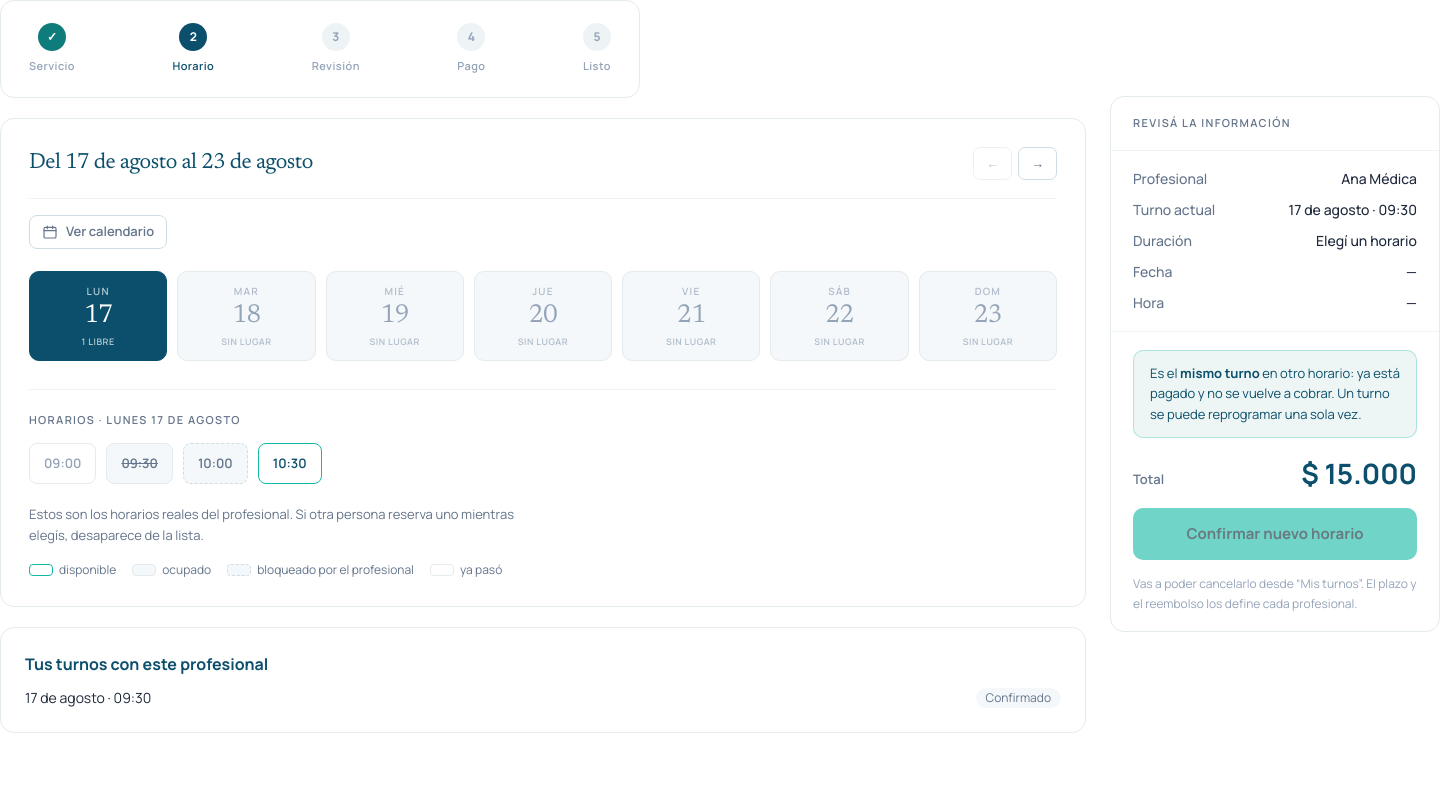
Test: BookAppointment › reprogramar (ENG-66) › muestra el turno actual y que no se vuelve a cobrar
Click the button labelled "10:30" at (290, 463), box [258,442,322,484]
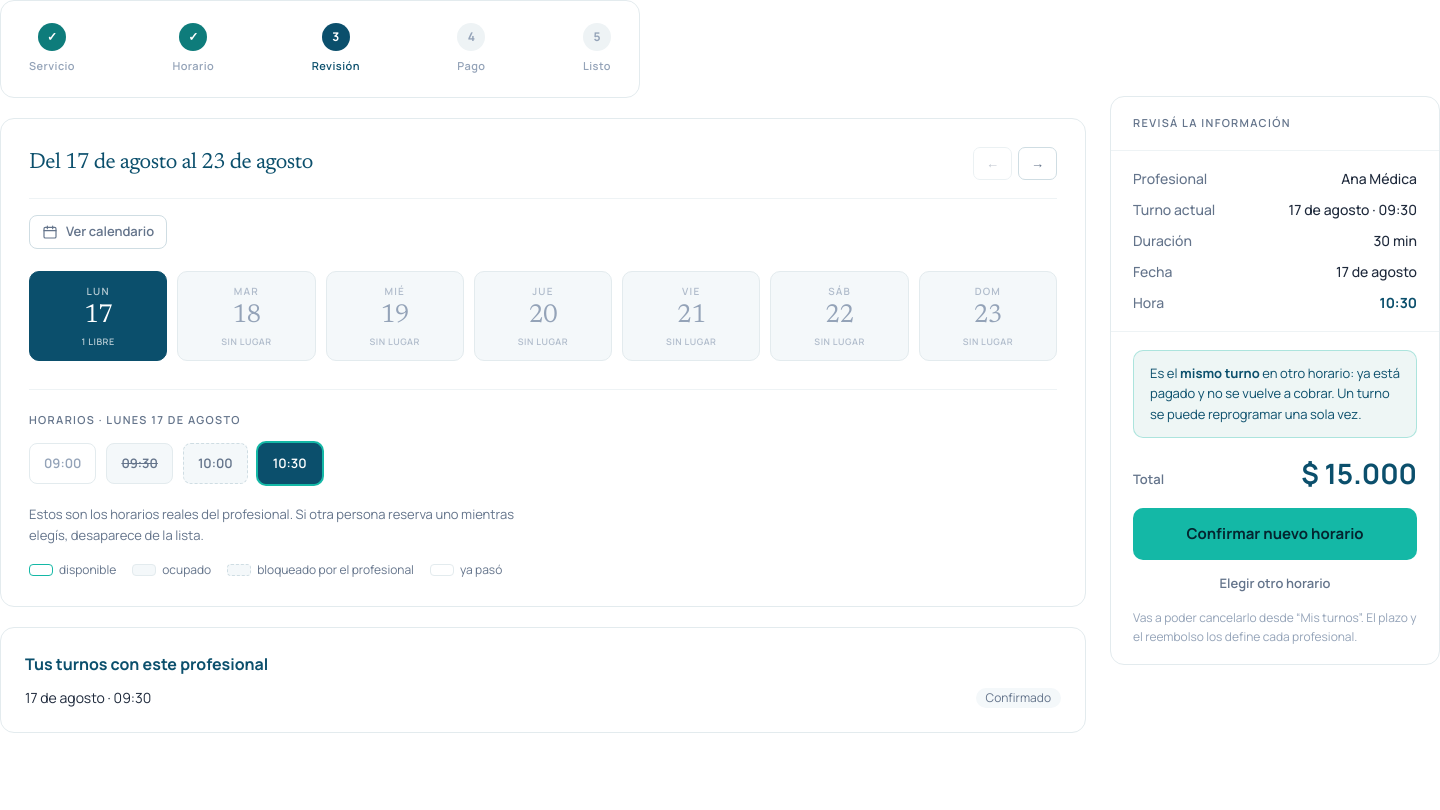
Expected: the text "17 de agosto · 09:30" next to "Turno actual" is shown, [1378,200,1417,218]
Result: the button "Confirmar nuevo horario" is enabled at [1133,508,1417,560]
